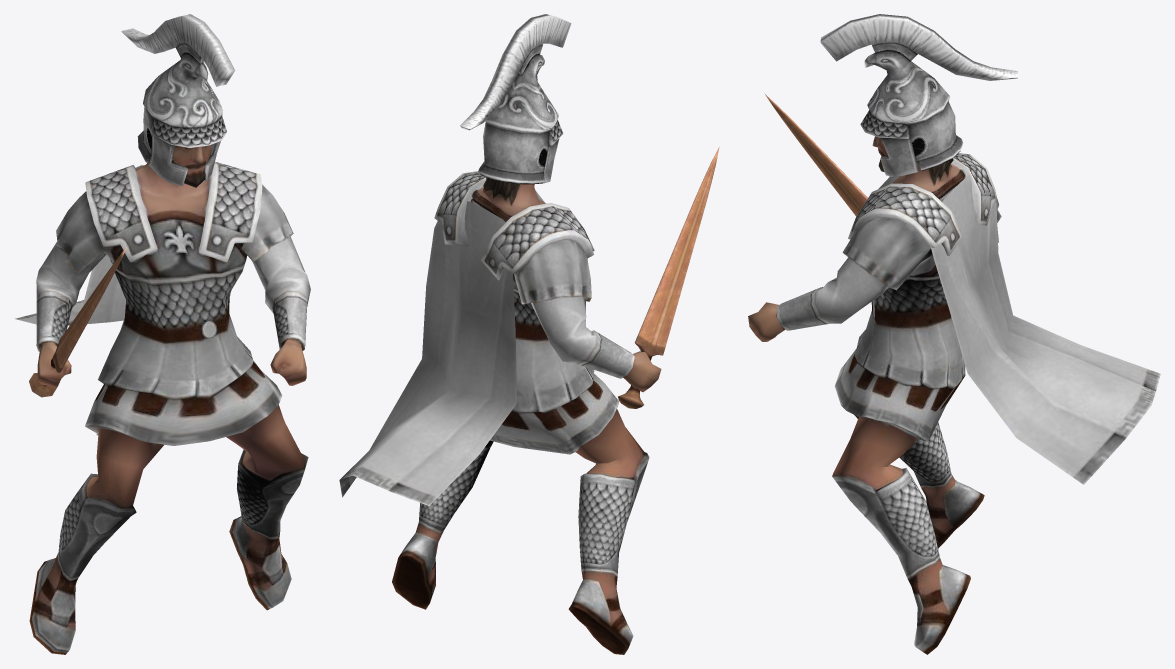
Rendered from rider-championcavalry.glb.
The picture shows the model from 3 angles, left to right: view 1: azimuth 30°, elevation 25°; view 2: azimuth 150°, elevation 25°; view 3: azimuth 270°, elevation 25°; orthographic projection. The views are drawn at different scales.
Bounding box in the file's own units: 1.03 × 2.36 × 1.49.
Materials: 3 (3 with a texture image).
